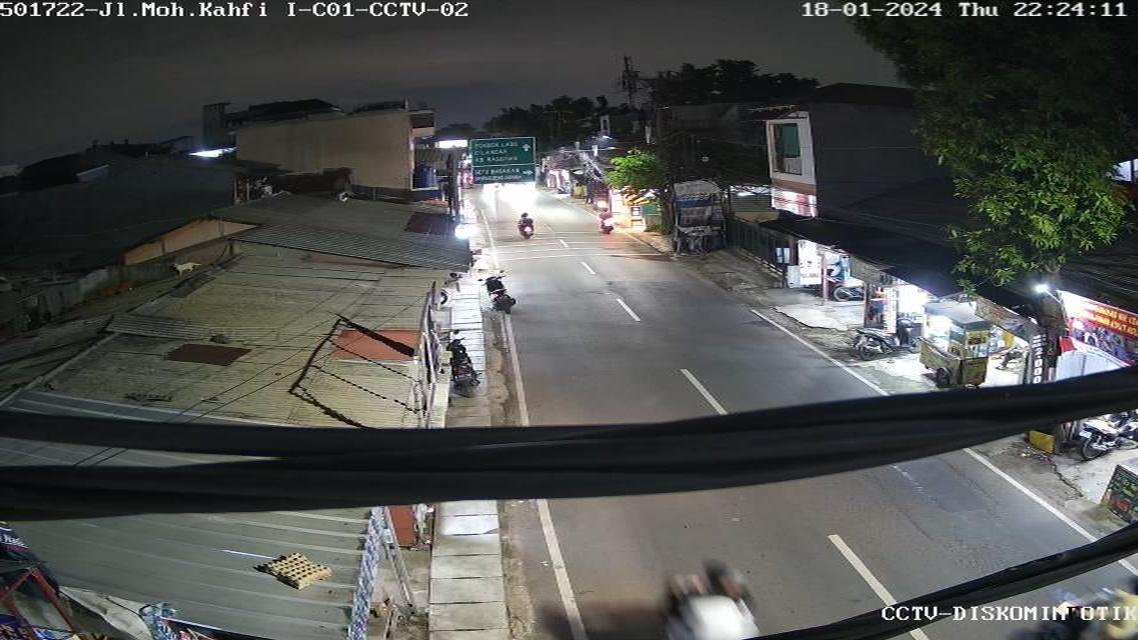Gerobak: (921, 297, 994, 391)
